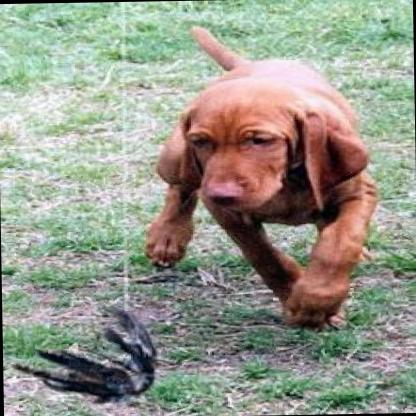vizsla: (134, 20, 371, 329)
